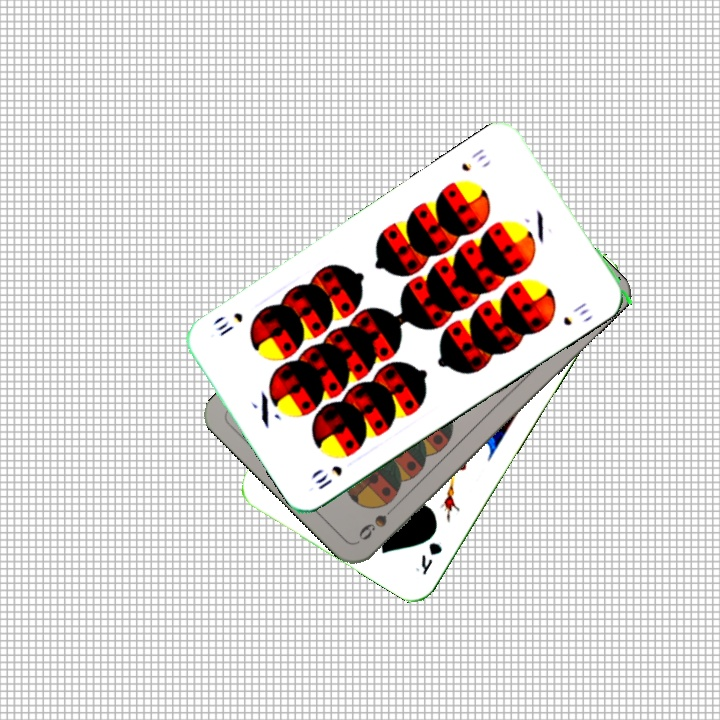GK: (411, 538, 445, 578)
S10: (307, 461, 345, 493), (457, 144, 489, 174)
S9: (355, 498, 402, 543)
